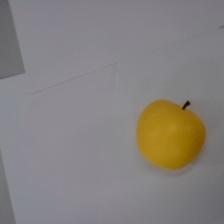yellow: (137, 99, 206, 171)
